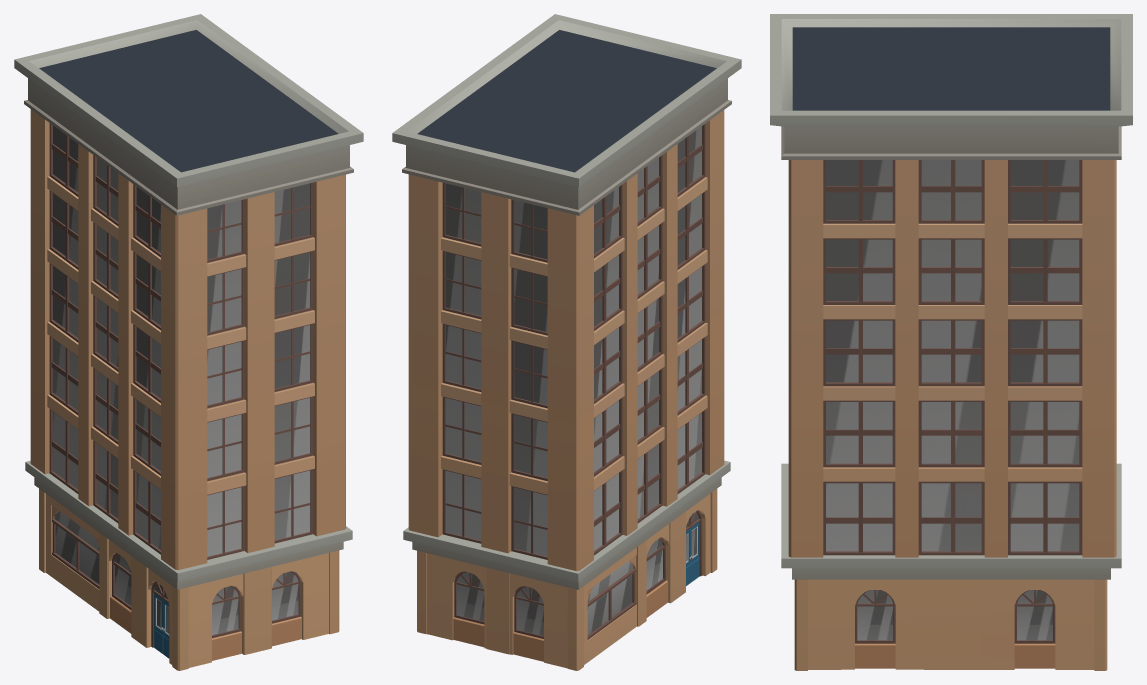
The model's file is Building_27_A.fbx.
3 views of the same model, side by side, from view 1: azimuth 30°, elevation 25°; view 2: azimuth 150°, elevation 25°; view 3: azimuth 270°, elevation 25° (orthographic). The views are drawn at different scales.
Parts seen in each view (by area): view 1: Building_27_A; view 2: Building_27_A; view 3: Building_27_A.
Boxes of the visible parts, x1,y1,x2,y2 form: Building_27_A: (14, 14, 363, 670); Building_27_A: (392, 14, 741, 670); Building_27_A: (770, 14, 1132, 670).
Size of the model in its own units: 765 by 1974 by 1155.
